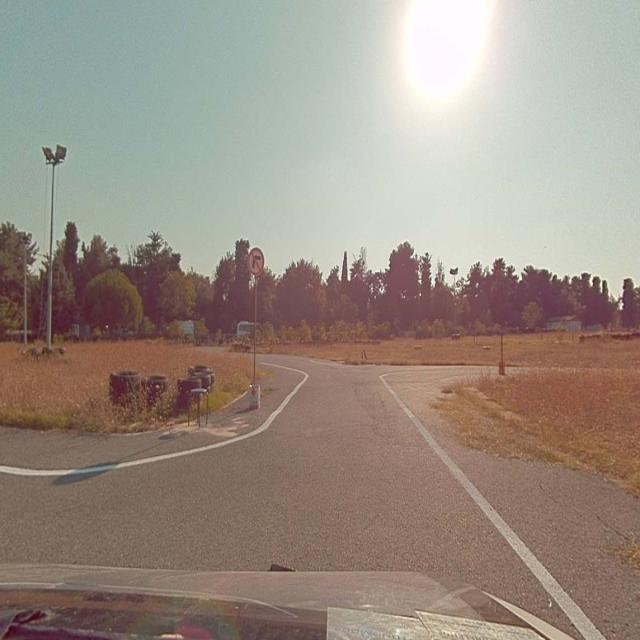sagadonulmez: (247, 248, 264, 275)
